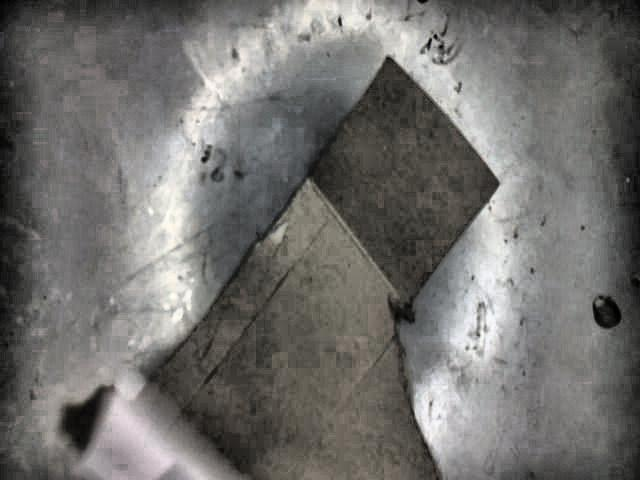Paper: (59, 58, 500, 480)
